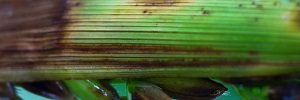RiceSheathBrownRot: (1, 1, 300, 82)
